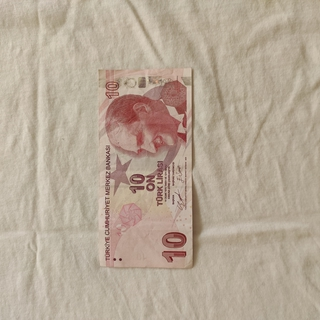10TLFront: (95, 66, 194, 269)
